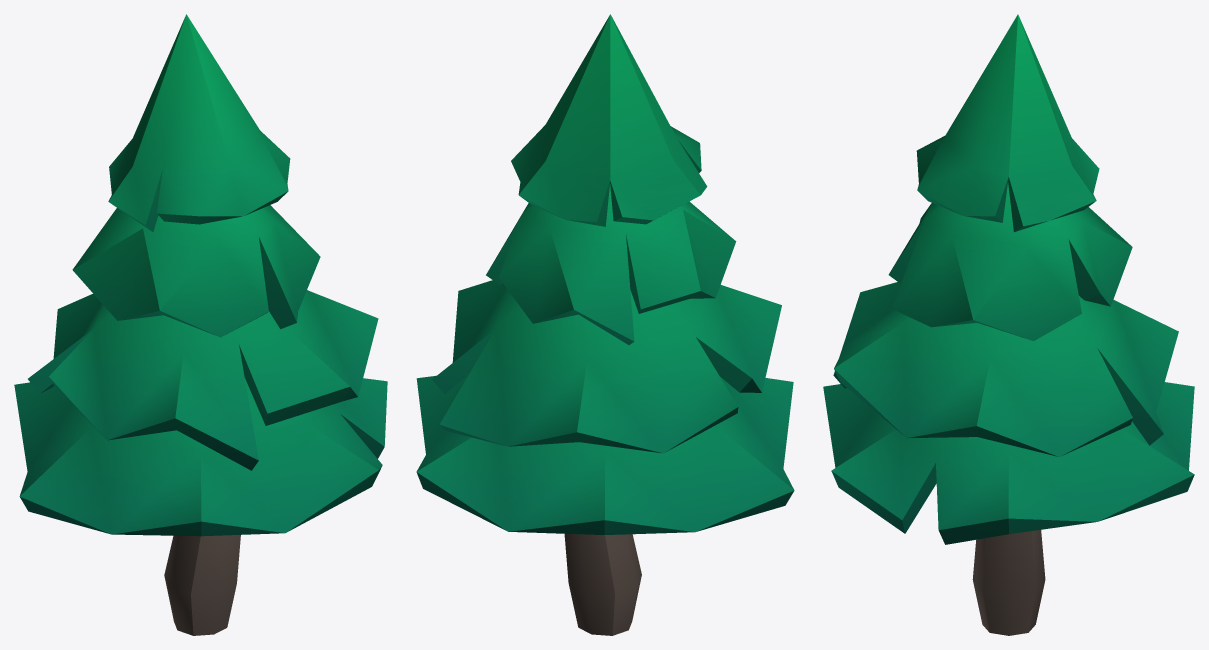
Rendered from PINO OSCURO.fbx.
The picture shows the model from 3 angles, left to right: view 1: azimuth 30°, elevation 25°; view 2: azimuth 150°, elevation 25°; view 3: azimuth 270°, elevation 25°; orthographic projection.
Visible parts, largest first — view 1: tree_pine_orange_large; view 2: tree_pine_orange_large; view 3: tree_pine_orange_large.
Boxes of the visible parts, x1,y1,x2,y2 form: tree_pine_orange_large: [14, 14, 387, 635]; tree_pine_orange_large: [416, 14, 794, 635]; tree_pine_orange_large: [823, 14, 1194, 635].
Bounding box in the file's own units: 630 × 550 × 989.
1 material, 1 textured.
